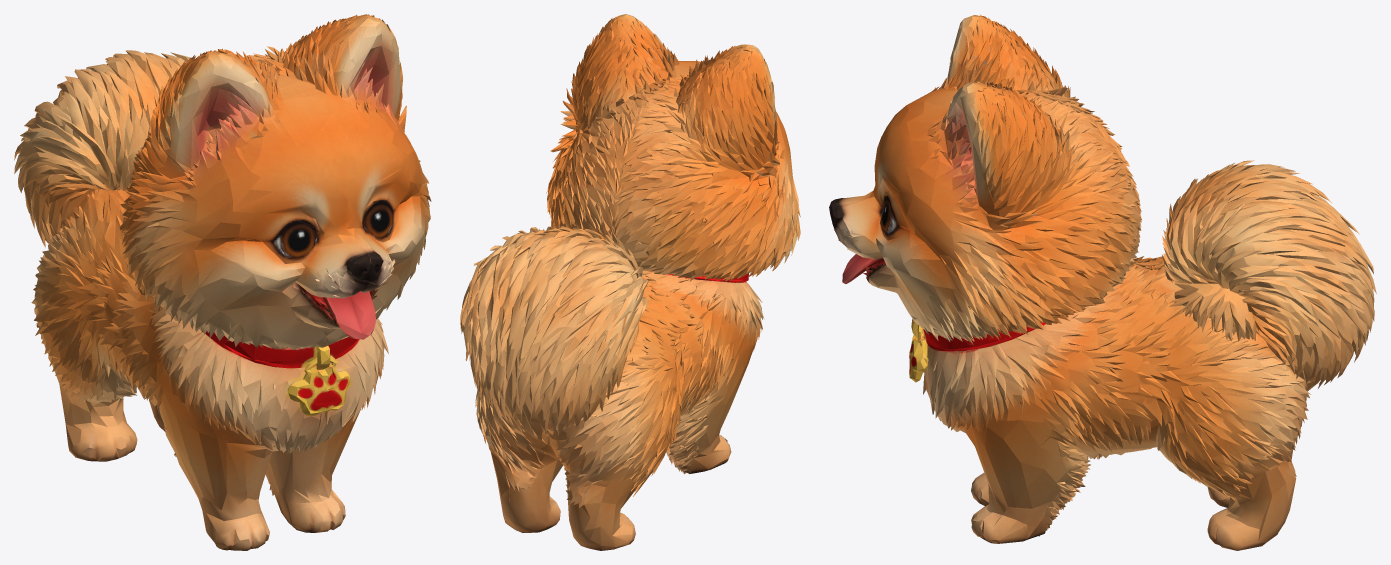
The model's file is Jerry_Baby.glb.
3 views of the same model, side by side, from view 1: azimuth 30°, elevation 25°; view 2: azimuth 150°, elevation 25°; view 3: azimuth 270°, elevation 25° (orthographic). The views are drawn at different scales.
Visible parts, largest first — view 1: output_unwrapped; view 2: output_unwrapped; view 3: output_unwrapped.
Boxes of the visible parts, left/top/right/bottom form: output_unwrapped: left=14, top=14, right=431, bottom=550; output_unwrapped: left=460, top=14, right=800, bottom=550; output_unwrapped: left=829, top=14, right=1376, bottom=550.
Size of the model in its own units: 1.06 by 1.81 by 1.9.
1 material, 1 textured.
